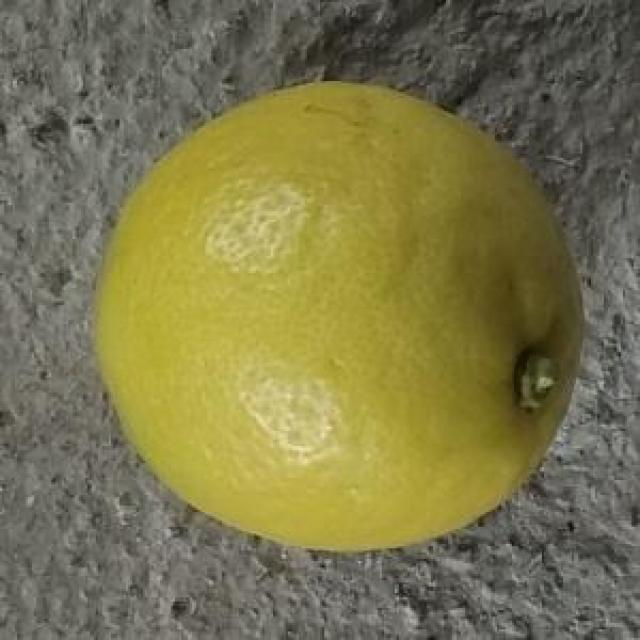lemon: (90, 79, 590, 552)
